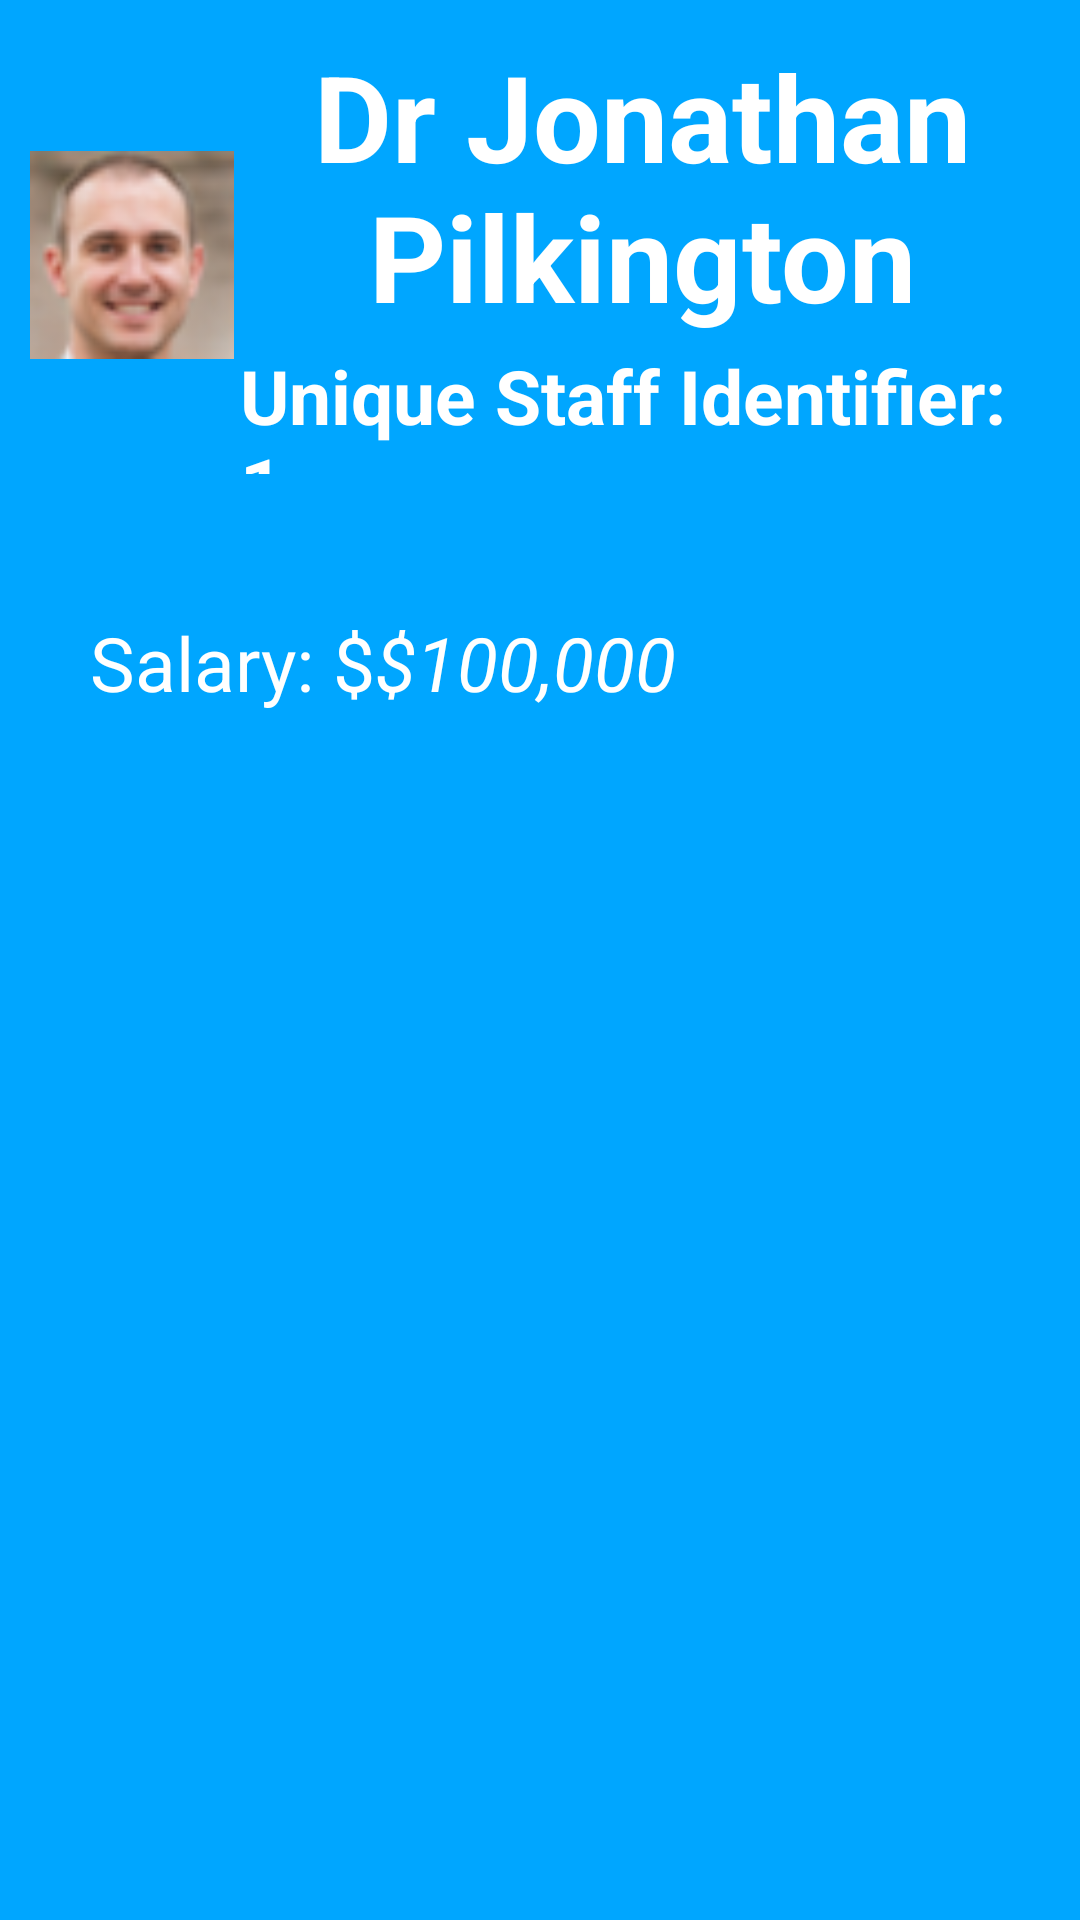

Named icons in this screenshot (1080x1920) and their bounding boxes, detection(x1, y1, x2, y2):
profile picture: detection(30, 151, 234, 359)
